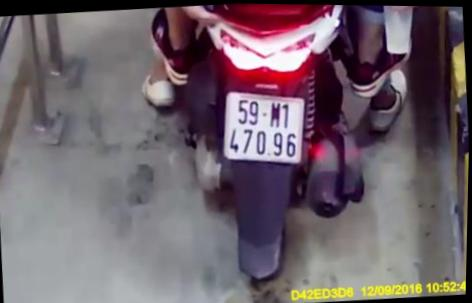LP: (219, 84, 310, 168)
